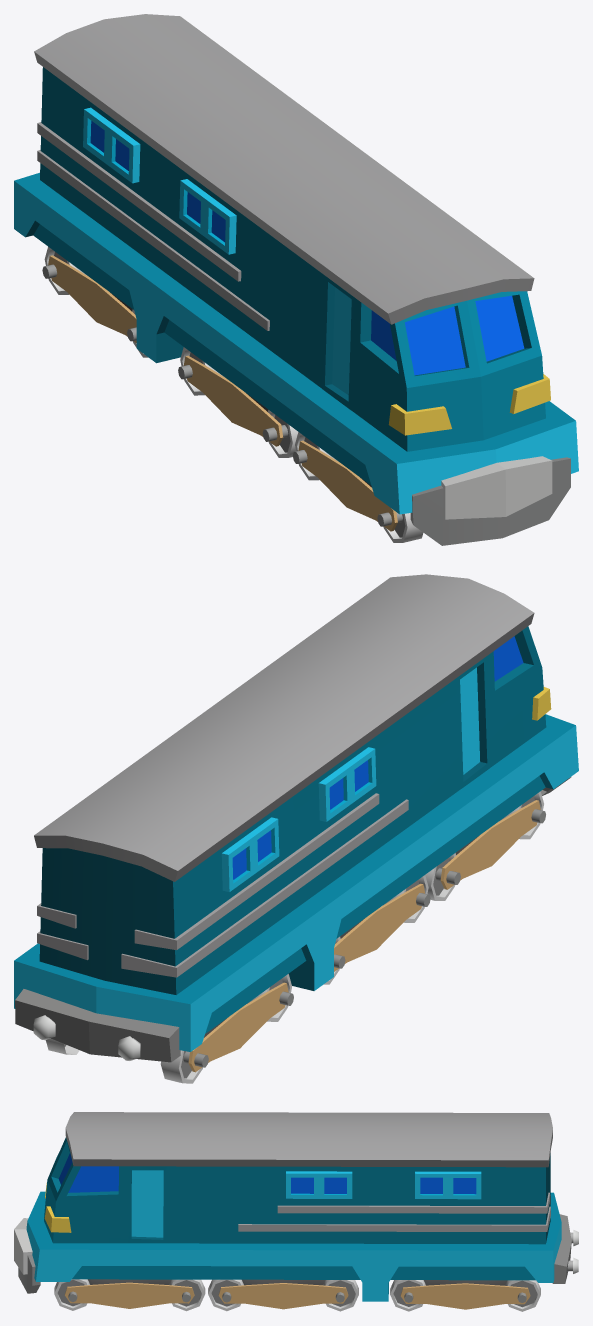
File: train.fbx
3 renders of one model, top to bottom at view 1: azimuth 30°, elevation 25°; view 2: azimuth 150°, elevation 25°; view 3: azimuth 270°, elevation 25°, orthographic. The views are drawn at different scales.
Visible parts, largest first — view 1: train_01.001; view 2: train_01.001; view 3: train_01.001.
Boxes of the visible parts, bbox=[...] form: train_01.001: bbox=[14, 14, 578, 545]; train_01.001: bbox=[14, 574, 578, 1083]; train_01.001: bbox=[14, 1112, 578, 1311].
Size of the model in its own units: 74.19 by 23.37 by 18.36.
